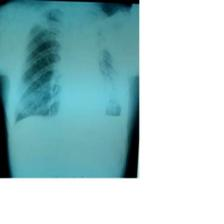tuberculosis: (8, 0, 129, 132)
